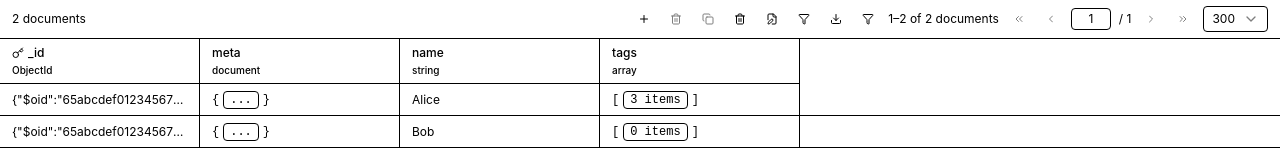
Scenario: DocumentDataGrid › double-click on a scalar cell opens the inline editor and records a pending edit
Double-click the text "Alice": (426, 100) [412,92,440,108]
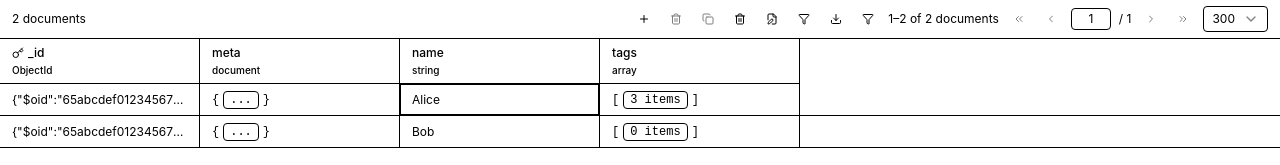
Replace the text in the field named "Editing name" with "Ada": (500, 100) [412,92,587,108]
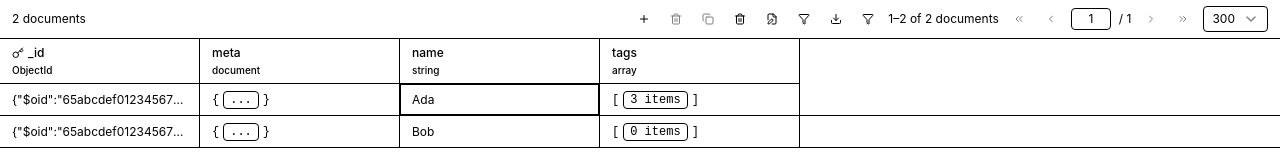
Press Enter in the field named "Editing name", box [412,92,587,108]
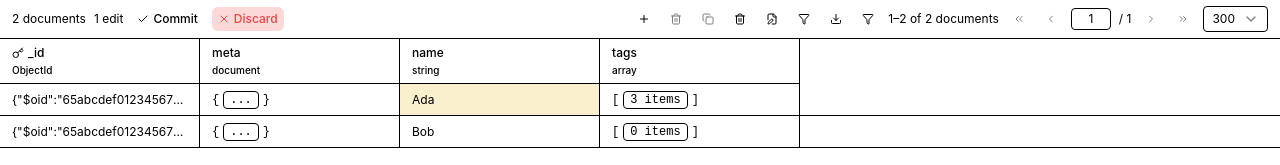
Check: the text "1 edit" is shown, box [94,11,123,27]
